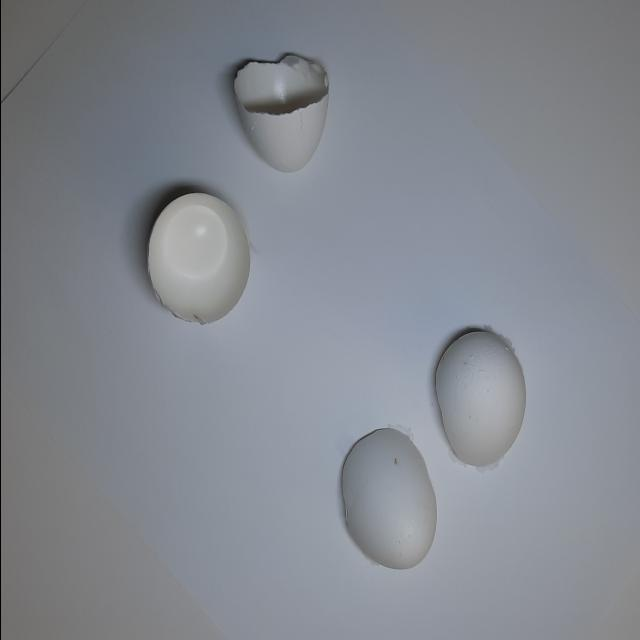egg shell: (426, 319, 534, 476), (140, 183, 253, 330), (334, 422, 438, 575), (226, 41, 336, 183)
